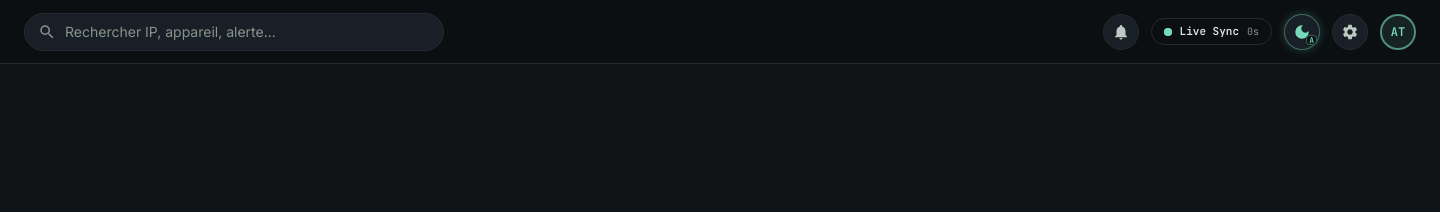
Scenario: Header : notifications réelles › sans alerte : message explicite
Click the button with id "header-notifications-btn" at (1121,32), box left=1103, top=14, right=1139, bottom=50
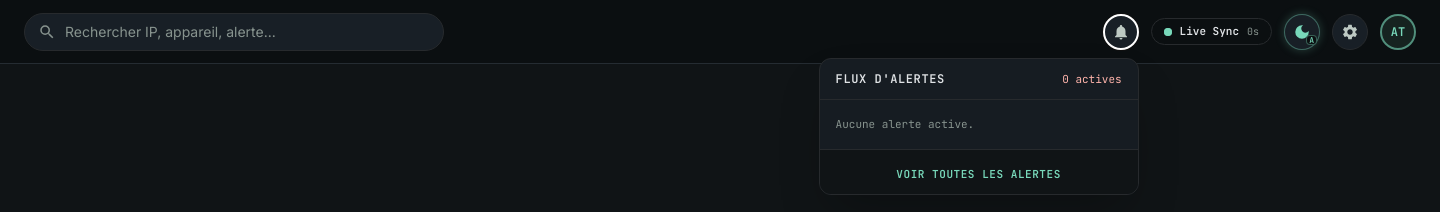
Now the text "Aucune alerte active." is shown, box left=836, top=117, right=974, bottom=131
